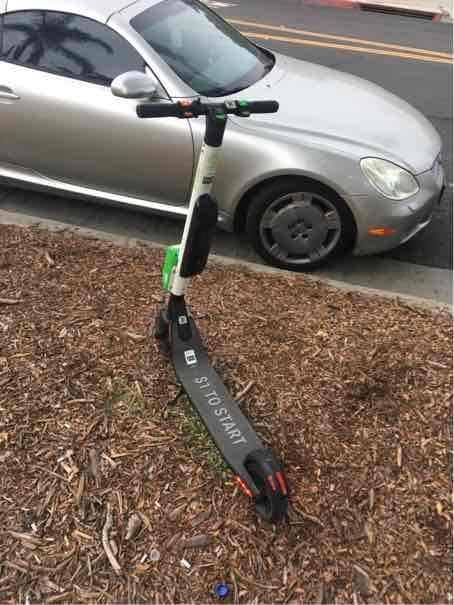scooter: (126, 102, 300, 541)
